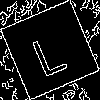L: (25, 24, 70, 78)
